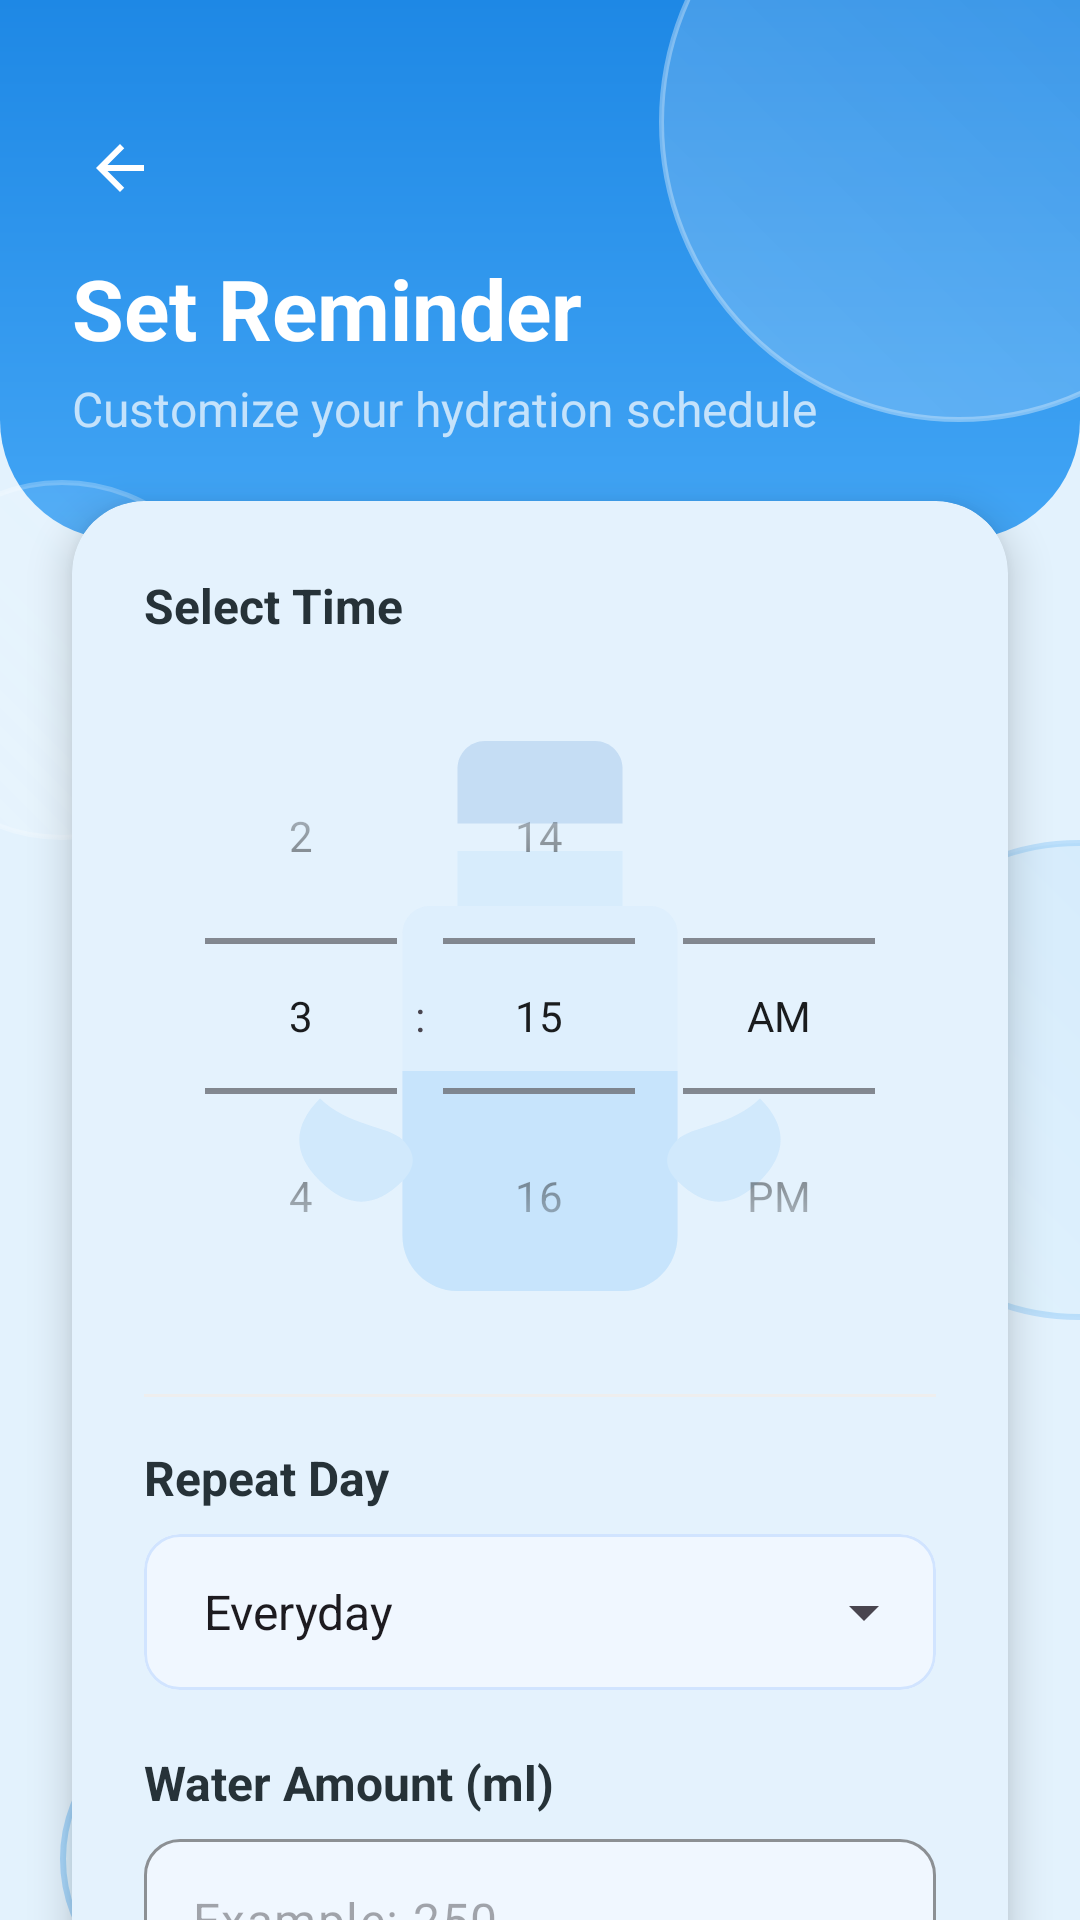

Locate icon controls on the screen. Image size 1080 × 1920, boxes as box=[x1, y1, x2, y2].
Back: box=[96, 144, 144, 192]
